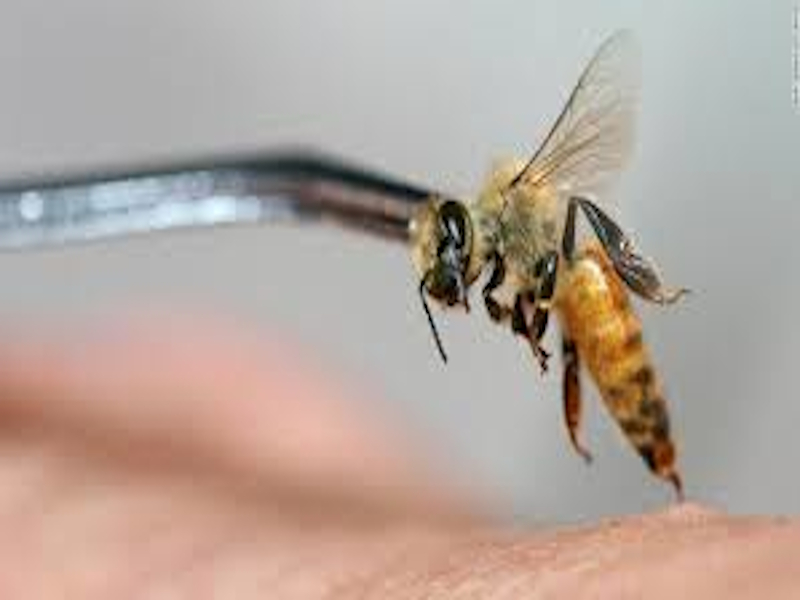abeja: (383, 24, 728, 564)
